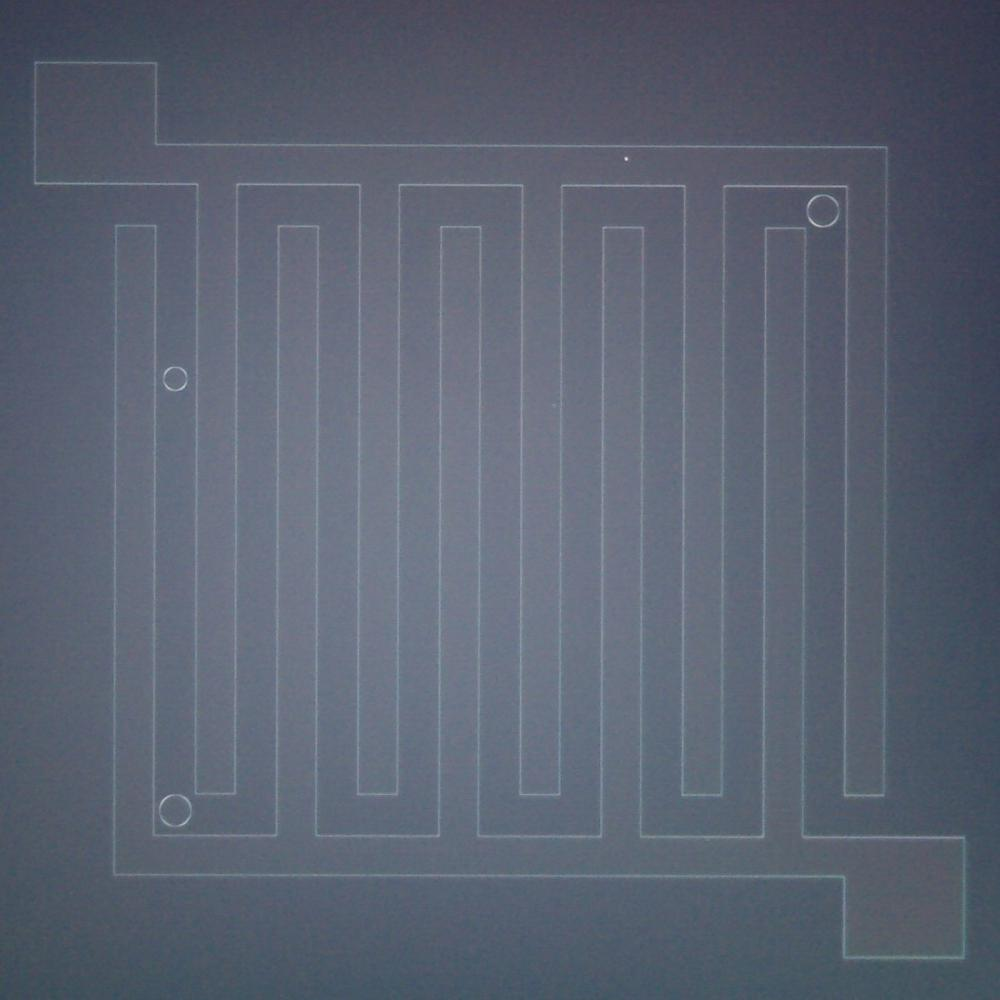circle: (158, 788, 200, 835), (800, 190, 846, 231), (162, 362, 192, 394)
dot: (612, 148, 639, 172)
